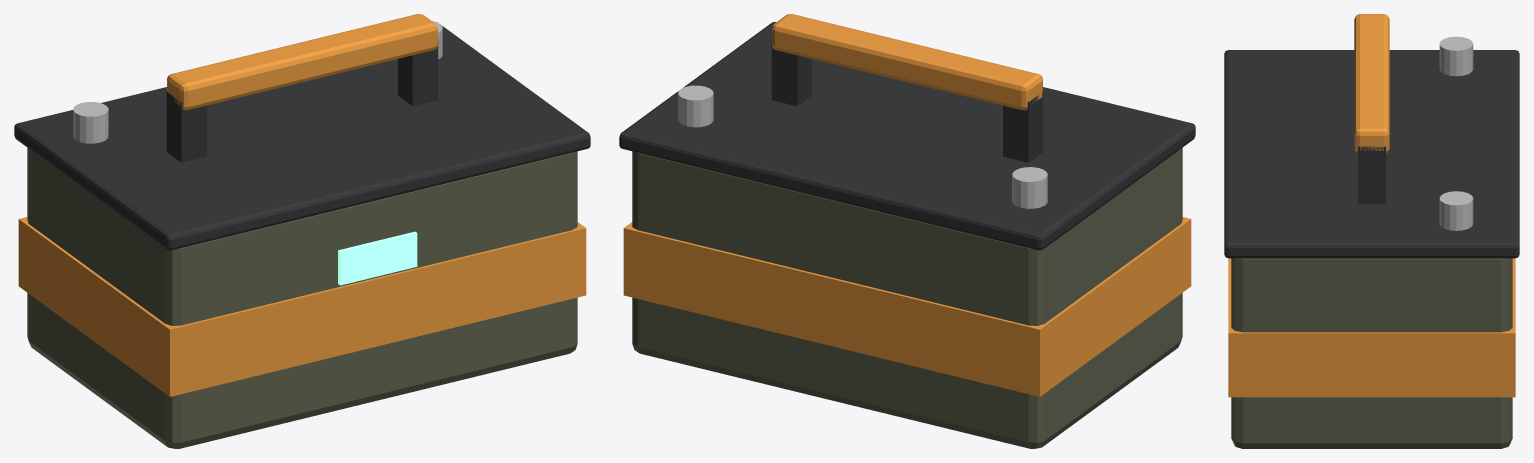
The model's file is ROOT_AER_BatteryPack.fbx.
3 views of the same model, side by side, from view 1: azimuth 30°, elevation 25°; view 2: azimuth 150°, elevation 25°; view 3: azimuth 270°, elevation 25° (orthographic). The views are drawn at different scales.
Parts seen in each view (by area): view 1: ROOT_AER_BatteryPack_LOD0; view 2: ROOT_AER_BatteryPack_LOD0; view 3: ROOT_AER_BatteryPack_LOD0.
Boxes of the visible parts, x1=… form: ROOT_AER_BatteryPack_LOD0: x1=14, y1=14, x2=590, y2=448; ROOT_AER_BatteryPack_LOD0: x1=619, y1=14, x2=1195, y2=448; ROOT_AER_BatteryPack_LOD0: x1=1224, y1=14, x2=1519, y2=448.
Size of what is drawn, in the model's own units: 33 by 22.5 by 21.
